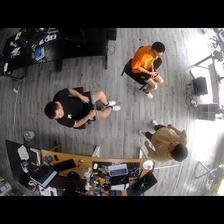normal: (44, 86, 118, 131), (121, 39, 168, 99), (137, 118, 190, 167)
